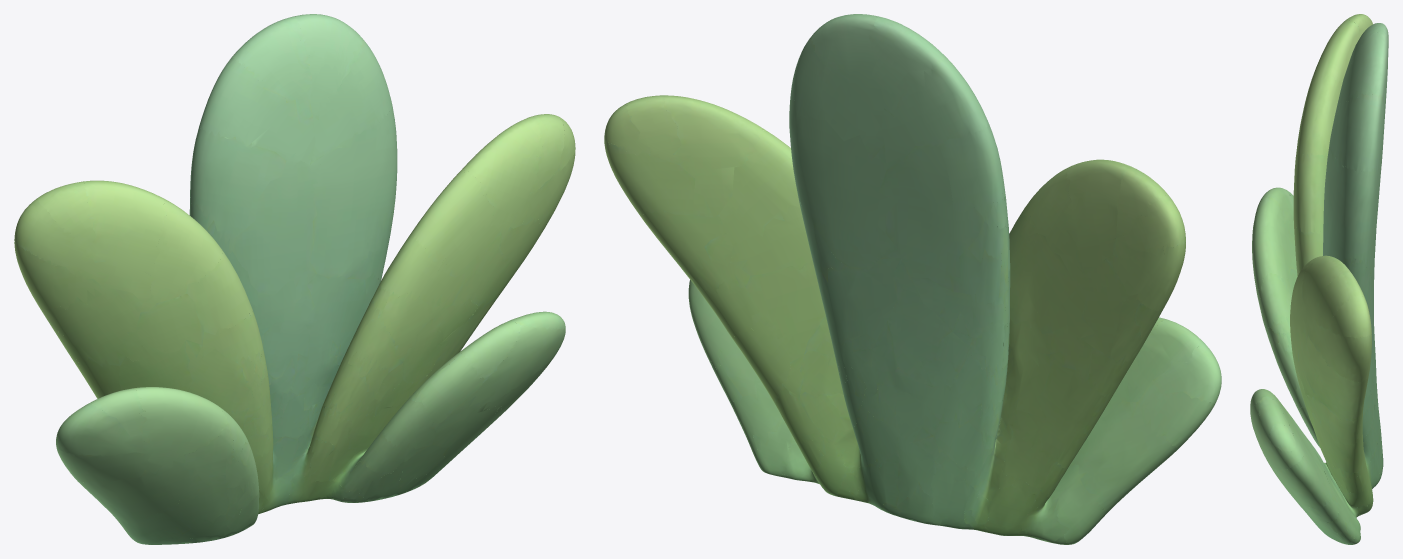
File: grass-low.glb
The picture shows the model from 3 angles, left to right: view 1: azimuth 30°, elevation 25°; view 2: azimuth 150°, elevation 25°; view 3: azimuth 270°, elevation 25°; orthographic projection. The views are drawn at different scales.
Visible parts, largest first — view 1: Mesh_0.001; view 2: Mesh_0.001; view 3: Mesh_0.001.
Boxes of the visible parts, x1,y1,x2,y2 form: Mesh_0.001: (14, 14, 575, 544); Mesh_0.001: (604, 14, 1221, 544); Mesh_0.001: (1250, 14, 1388, 544).
Size of the model in its own units: 1.9 by 1.54 by 0.4269.
1 material, 1 textured.
